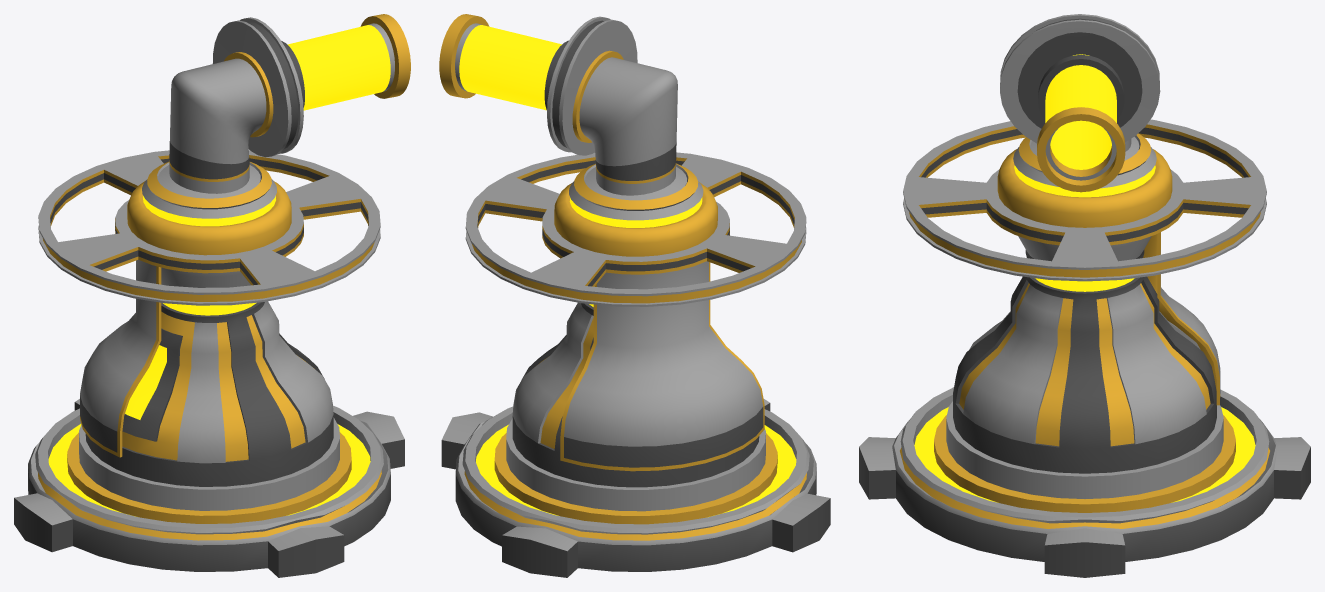
The model's file is TowerA.fbx.
The picture shows the model from 3 angles, left to right: view 1: azimuth 30°, elevation 25°; view 2: azimuth 150°, elevation 25°; view 3: azimuth 270°, elevation 25°; orthographic projection. The views are drawn at different scales.
Parts seen in each view (by area): view 1: TowerA, BaseTowerHead, DiscDetailA, TowerAShield; view 2: TowerA, TowerAShield, BaseTowerHead, DiscDetailA; view 3: TowerA, DiscDetailA, BaseTowerHead, TowerAShield.
Boxes of the visible parts, x1,y1,x2,y2 form: TowerA: (14,161,404,577); BaseTowerHead: (169,14,410,193); DiscDetailA: (38,150,380,305); TowerAShield: (80,259,161,457); TowerA: (441,163,830,577); TowerAShield: (560,261,764,471); BaseTowerHead: (439,14,677,195); DiscDetailA: (465,152,806,306); TowerA: (859,133,1310,577); DiscDetailA: (903,119,1266,281); BaseTowerHead: (1000,14,1160,192); TowerAShield: (1143,232,1220,405).
Size of the model in its own units: 112 by 134 by 112.
